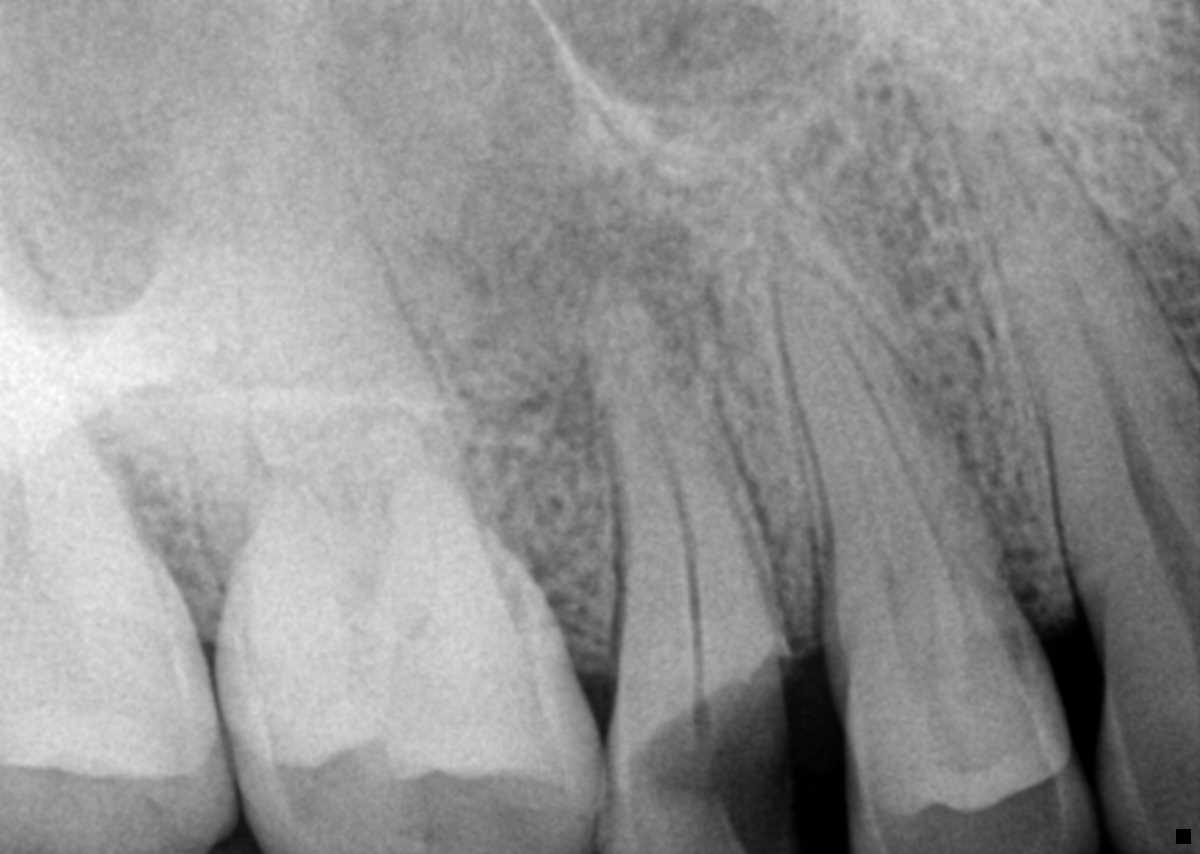Apical Lesion: (451, 164, 723, 454)
Main Canal: (991, 132, 1173, 522), (609, 279, 705, 673)
Main Root: (941, 61, 1200, 587), (230, 106, 480, 550), (774, 266, 1014, 652), (589, 270, 772, 697), (0, 220, 173, 591)
decay: (634, 635, 805, 848)
